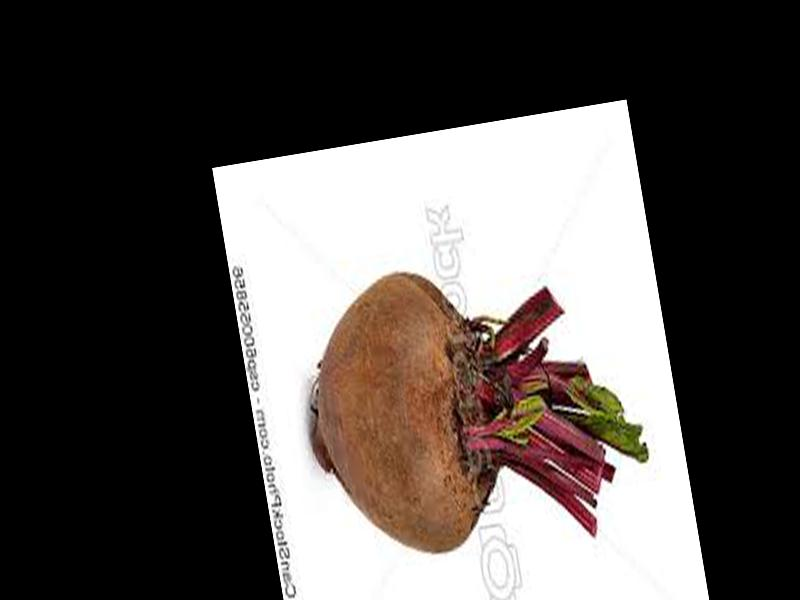Beet: (287, 235, 659, 578)
